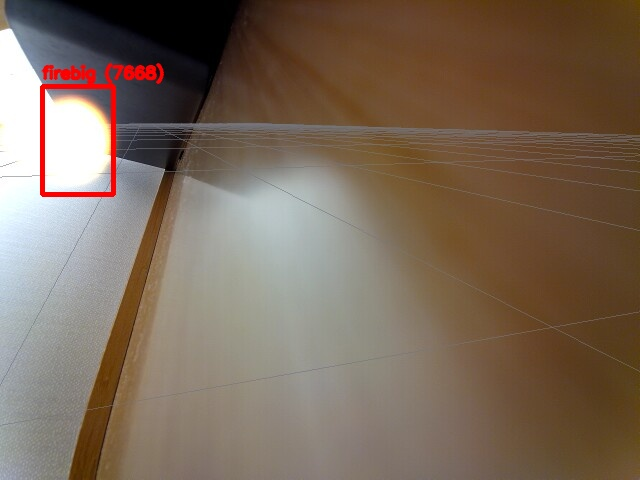firebig: (42, 86, 113, 194)
